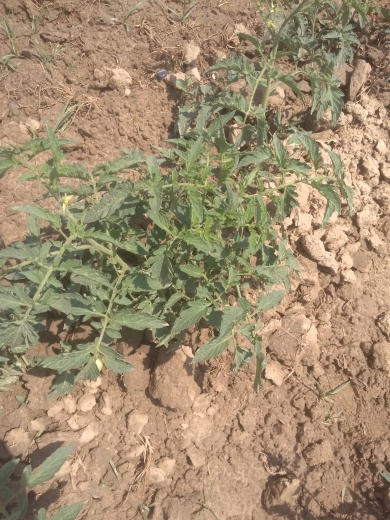tomato plant: (37, 31, 364, 352)
